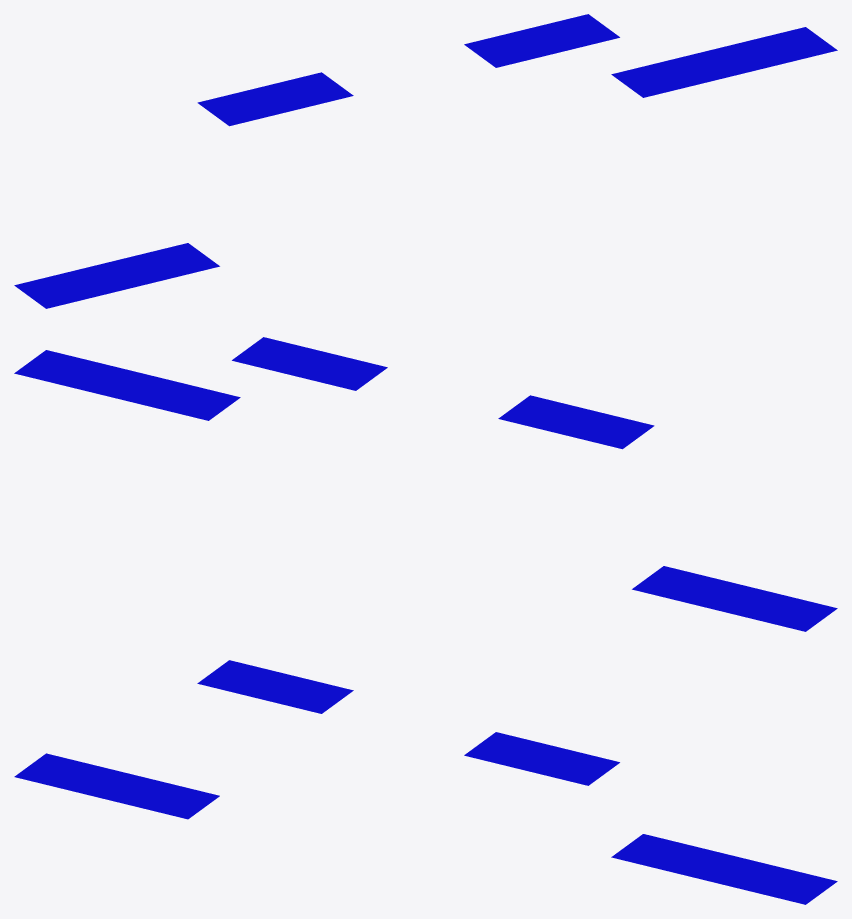
Rendered from WaterFloor.fbx.
3 renders of one model, top to bottom at view 1: azimuth 30°, elevation 25°; view 2: azimuth 150°, elevation 25°; view 3: azimuth 330°, elevation 25°, orthographic.
Parts seen in each view (by area): view 1: pCube1, pCube4, pCube3, pCube2; view 2: pCube1, pCube4, pCube3, pCube2; view 3: pCube1, pCube4, pCube2, pCube3.
Part boxes in pixels (x1,y1,x2,y2): pCube1: (611, 27, 837, 97); pCube4: (14, 243, 219, 308); pCube3: (197, 72, 353, 126); pCube2: (464, 14, 619, 67); pCube1: (14, 350, 240, 420); pCube4: (632, 566, 837, 631); pCube3: (498, 395, 654, 449); pCube2: (232, 337, 387, 390); pCube1: (611, 834, 837, 904); pCube4: (14, 753, 219, 819); pCube2: (464, 732, 619, 785); pCube3: (197, 660, 353, 713).
Size of the model in its own units: 343 by 57.11 by 24.17.
